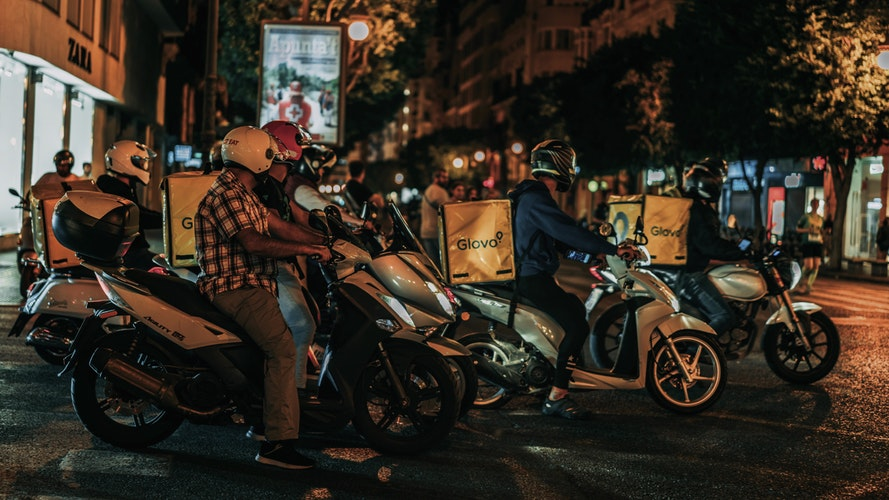helmet: (99, 136, 158, 191), (217, 124, 283, 170), (531, 137, 591, 185), (247, 118, 303, 164)
